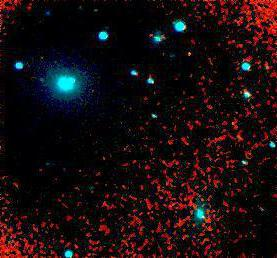star: (27, 66, 57, 96)
